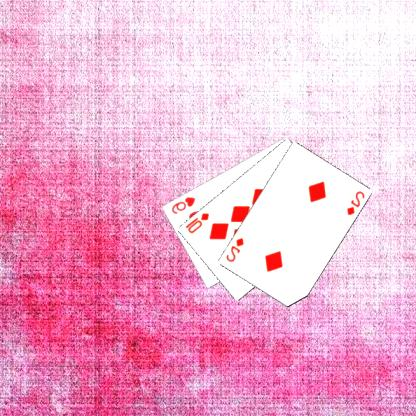10D: (184, 210, 212, 235)
2D: (345, 188, 368, 217), (224, 235, 247, 263)
6H: (170, 194, 198, 215)
